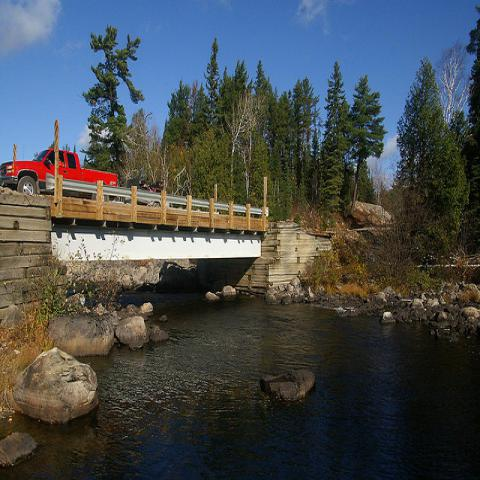truck: (0, 149, 120, 195)
